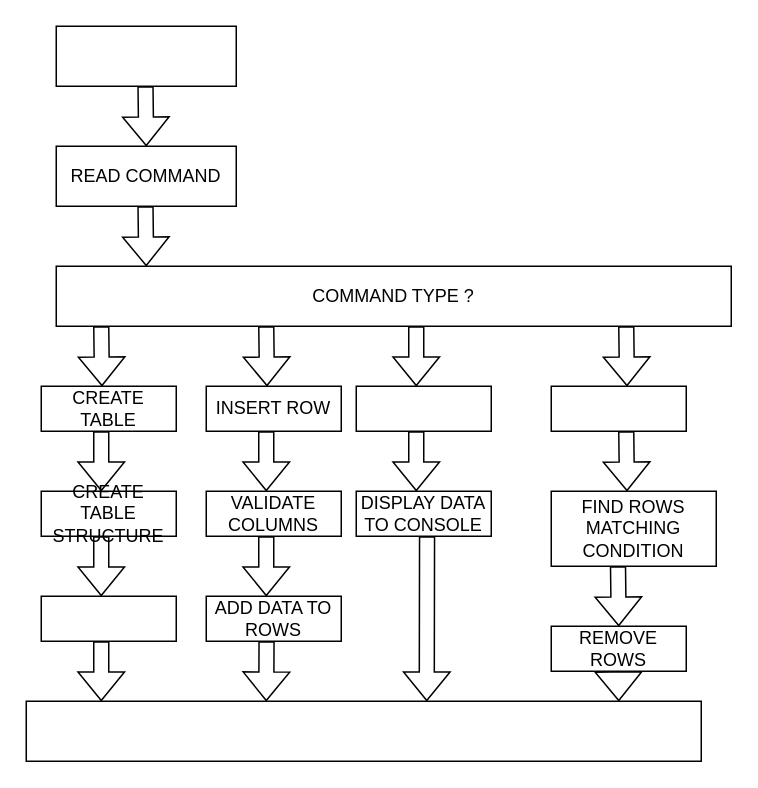
Some shapes in this 758 by 788 pixel diagram are drawn without their labels. The centre of each missing label's shape, as x and y in pixels:
"DELETE ROWS" goes at point 618,408.
"END" goes at point 363,730.
"SELECT ROWS" goes at point 423,408.
"START" goes at point 145,55.
"UPDATE DATABASE" goes at point 108,618.
